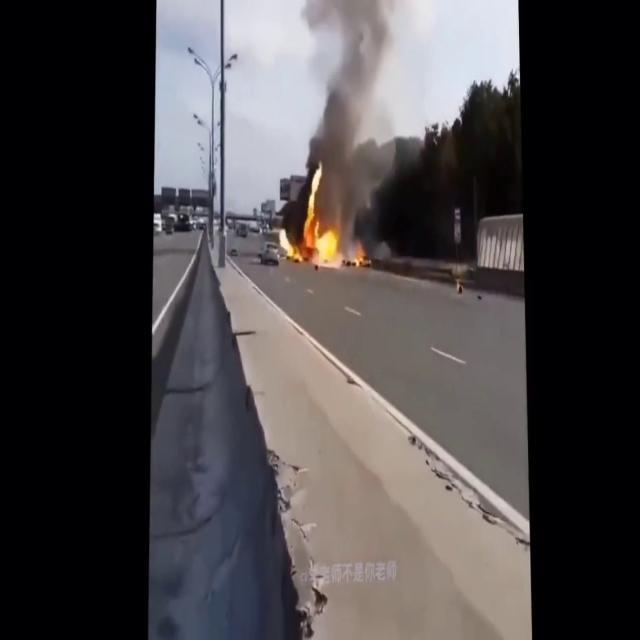Fire: (296, 166, 342, 268), (348, 239, 368, 269)
Smoke: (304, 1, 404, 200)
